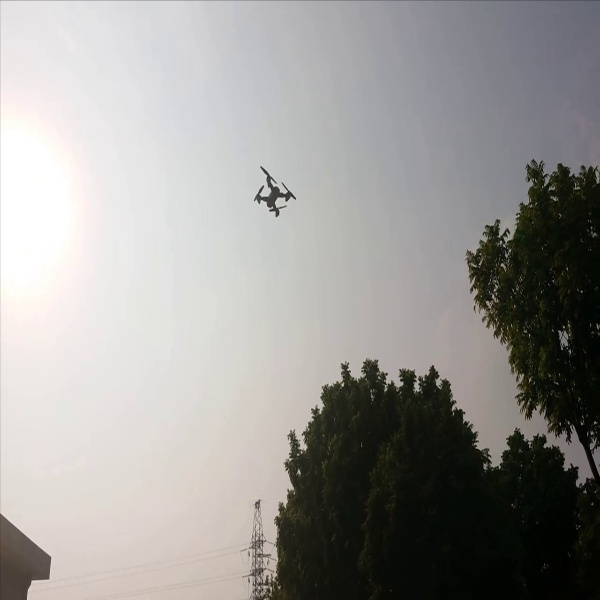drone: (248, 159, 306, 226)
